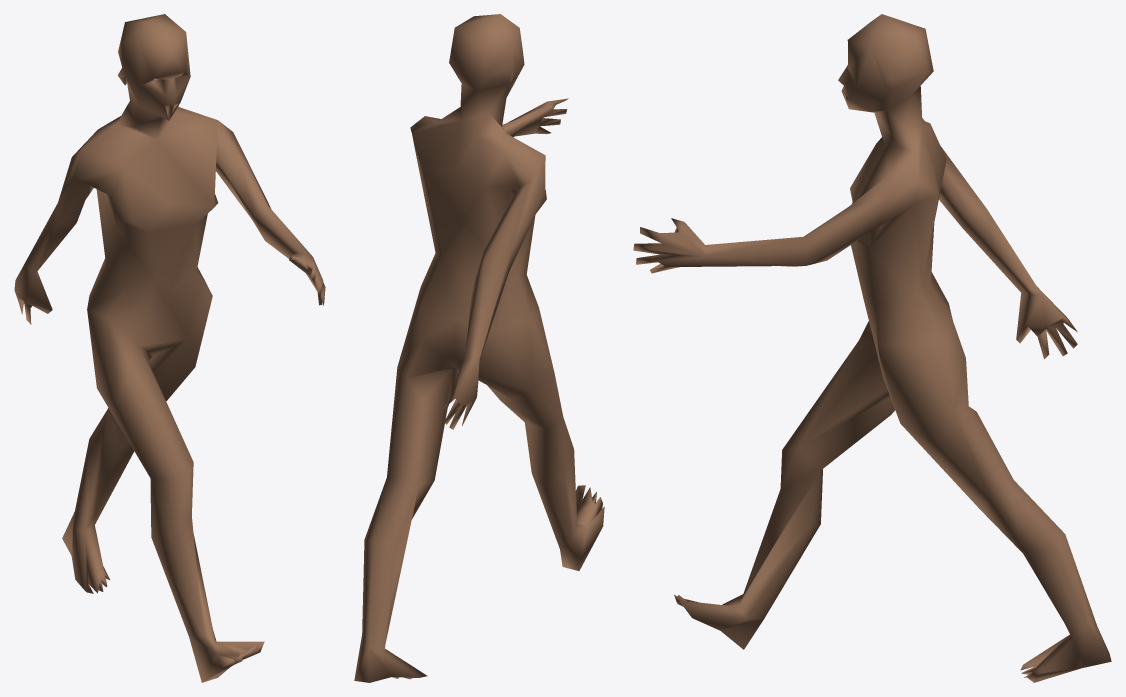
The model's file is obs_000042.obj.
The picture shows the model from 3 angles, left to right: view 1: azimuth 30°, elevation 25°; view 2: azimuth 150°, elevation 25°; view 3: azimuth 270°, elevation 25°; orthographic projection. The views are drawn at different scales.
Parts seen in each view (by area): view 1: 1-base; view 2: 1-base; view 3: 1-base.
Part boxes in pixels (left/top/right/bottom): 1-base: left=14, top=14, right=325, bottom=682; 1-base: left=354, top=14, right=604, bottom=682; 1-base: left=633, top=14, right=1111, bottom=682.
Bounding box in the file's own units: 0.3658 × 1.43 × 0.9457.
